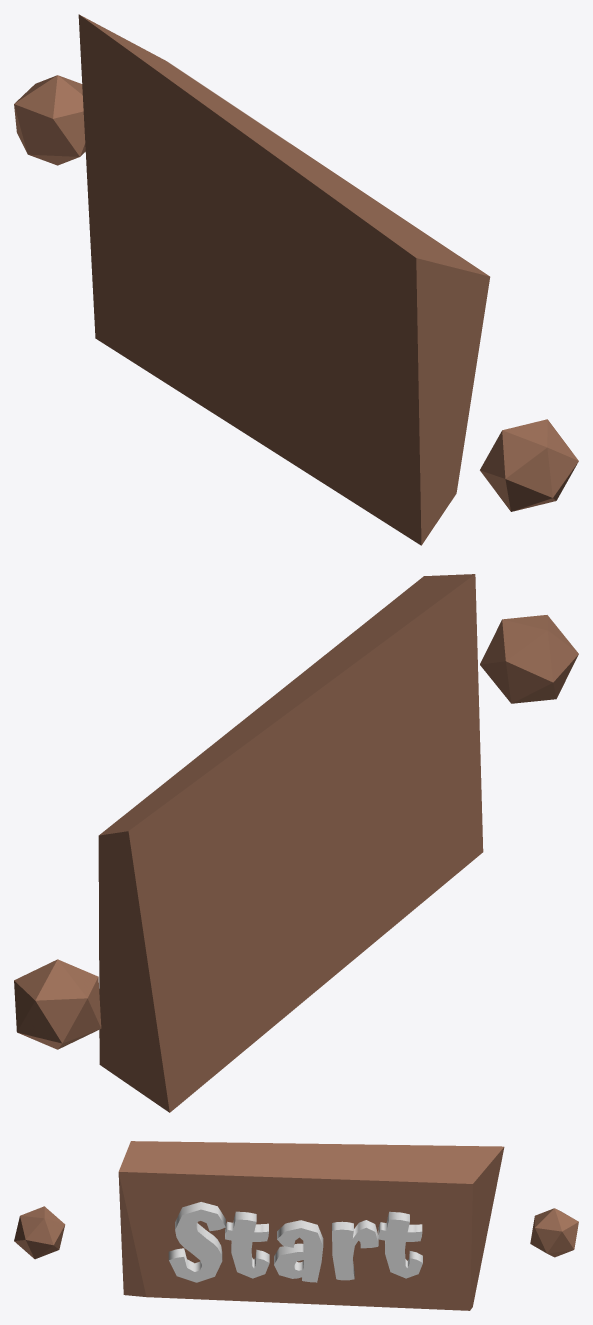
File: act-1-button-start.glb
3 views of the same model, one above another, from view 1: azimuth 30°, elevation 25°; view 2: azimuth 150°, elevation 25°; view 3: azimuth 270°, elevation 25° (orthographic). The views are drawn at different scales.
Visible parts, largest first — view 1: act-1-button-start; view 2: act-1-button-start; view 3: act-1-button-start.
Part boxes in pixels (x1,y1,x2,y2): act-1-button-start: (14,14,578,545); act-1-button-start: (14,574,578,1112); act-1-button-start: (14,1141,578,1310).
Size of the model in its own units: 0.109 by 0.3282 by 1.
